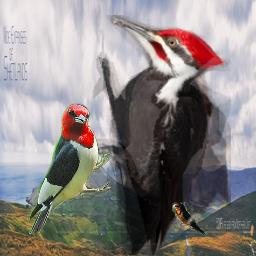Swallow: (172, 202, 208, 237)
Woodpecker: (87, 15, 231, 255), (25, 103, 111, 234)
